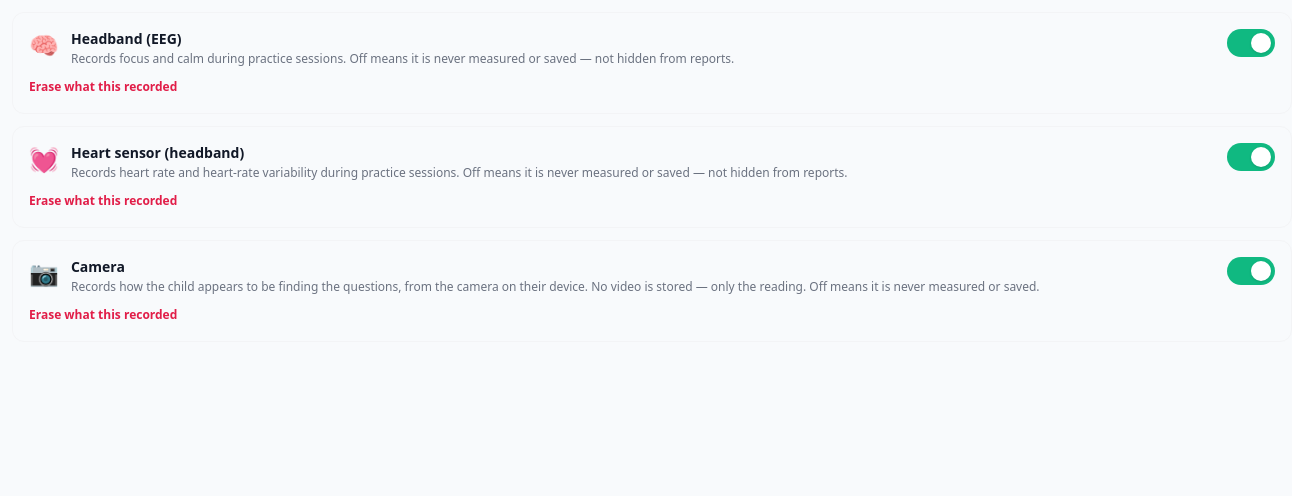
Scenario: erasing stored readings › keeps the chart warning when the reload after an erasure fails
Expected: the text "Camera" is shown, 71,257 -> 125,276
Step 1. Click the 3rd button "Erase what this recorded" → click(103, 315), box 29,307 -> 177,323
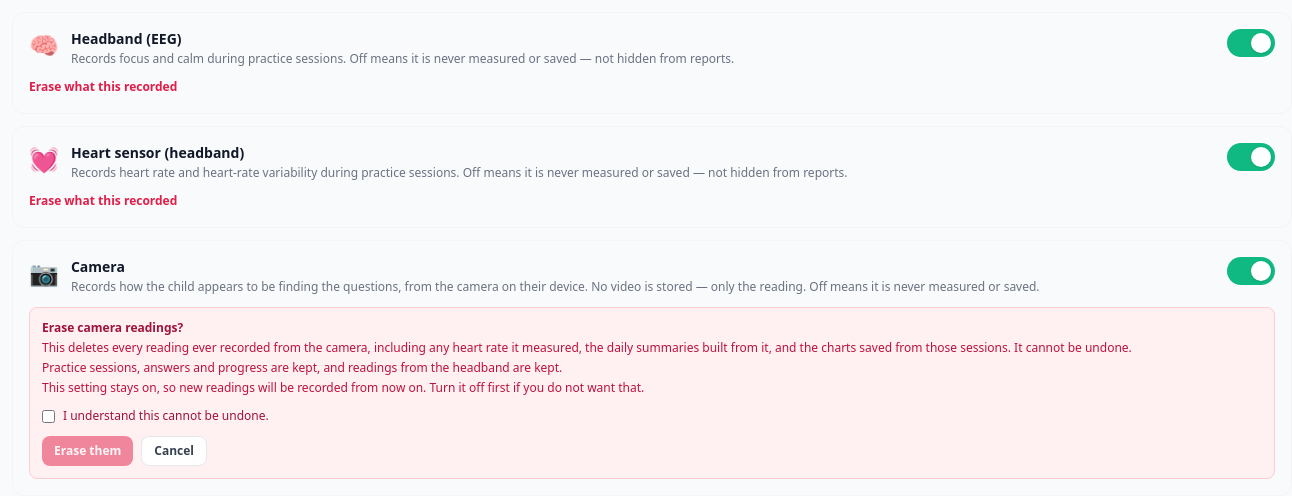
Step 2. Click the checkbox → click(48, 416), box 42,410 -> 55,423
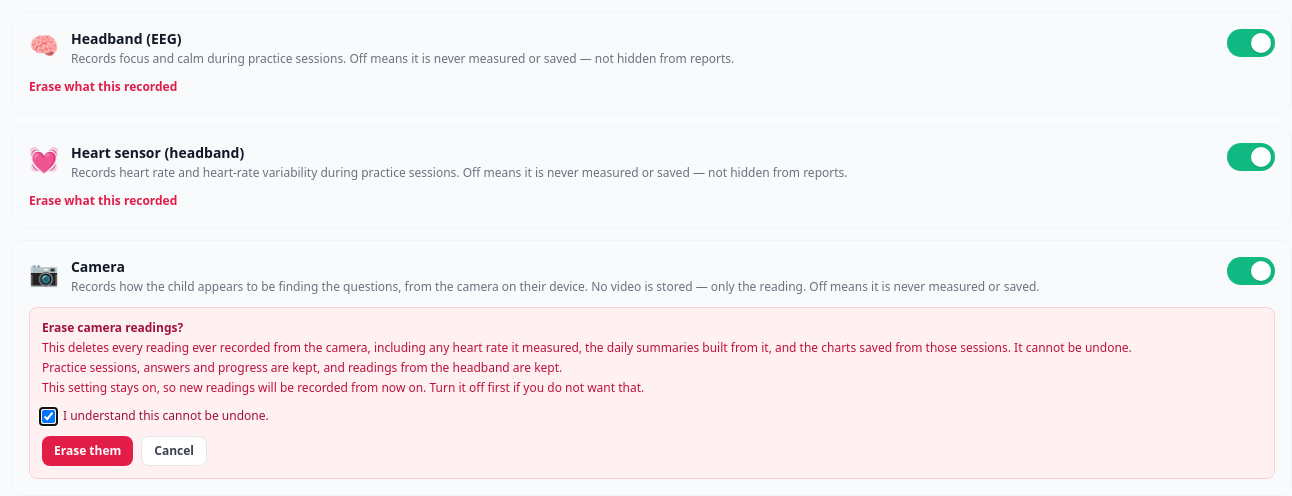
Step 3. Click the button "Erase them" → click(88, 451), box 42,436 -> 133,466
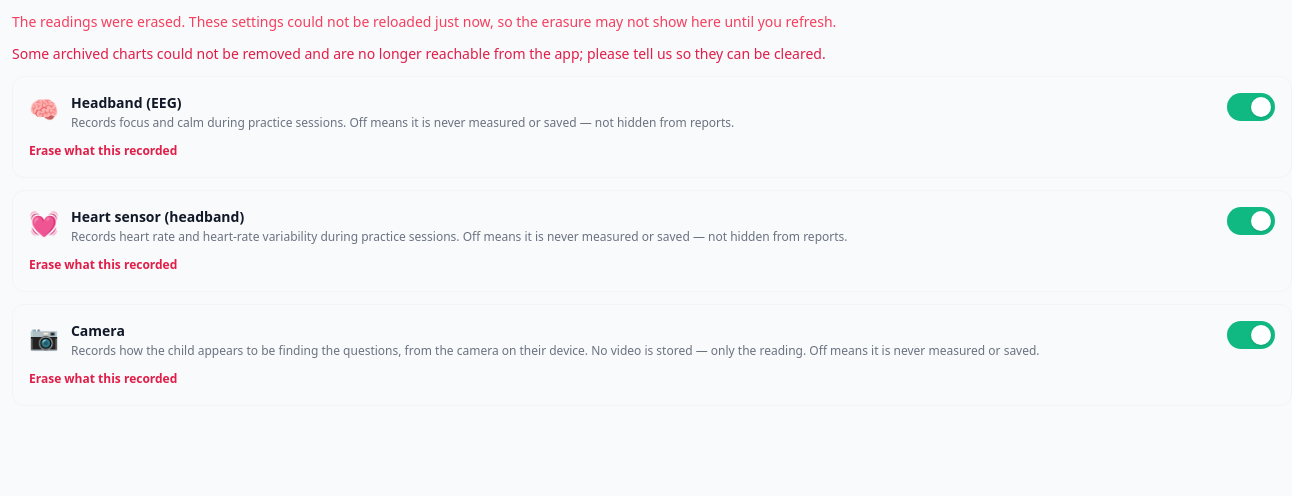
Now the text "These settings could not be reloaded" is shown, box 12,12 -> 836,31
Now the text "Some archived charts could not be removed" is shown, box 12,44 -> 826,63
